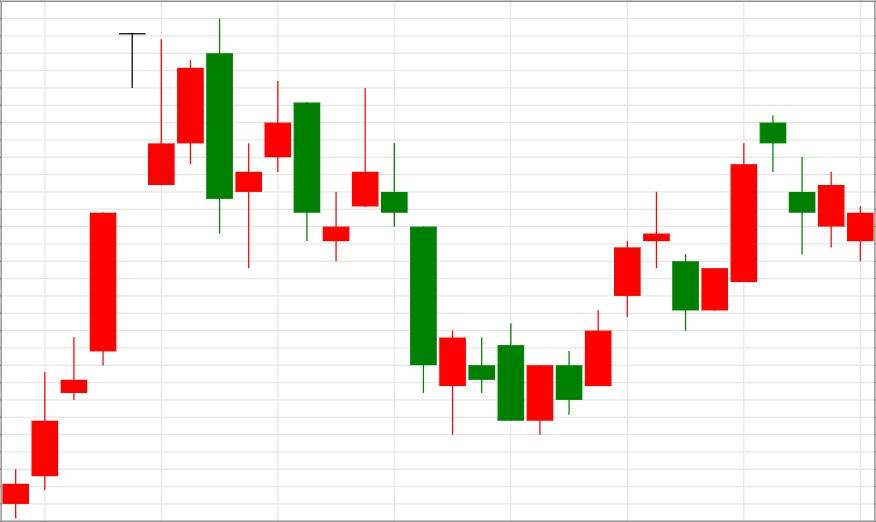bearish_engulfing_fall: (0, 18, 234, 519)
